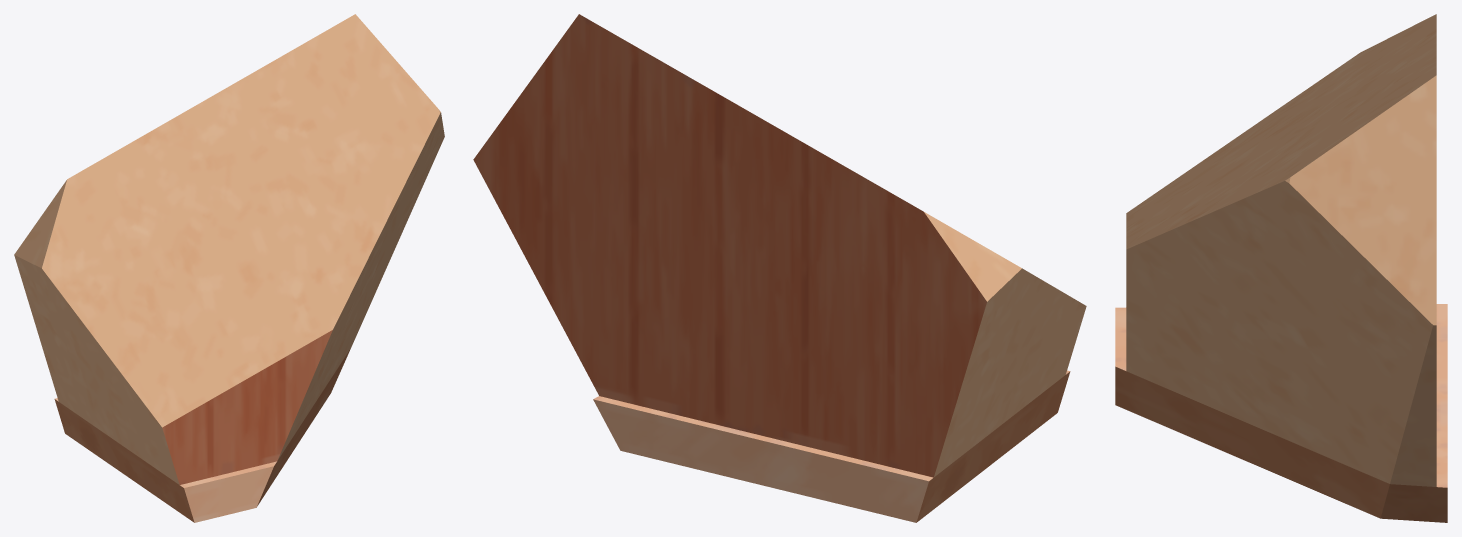
Rendered from counter_s02.fbx.
3 renders of one model, left to right at view 1: azimuth 30°, elevation 25°; view 2: azimuth 150°, elevation 25°; view 3: azimuth 270°, elevation 25°, orthographic. The views are drawn at different scales.
Parts seen in each view (by area): view 1: counter_s02; view 2: counter_s02; view 3: counter_s02.
Boxes of the visible parts, x1,y1,x2,y2 form: counter_s02: (14, 14, 444, 522); counter_s02: (473, 14, 1086, 522); counter_s02: (1115, 14, 1447, 522).
Bounding box in the file's own units: 3.01 × 2.36 × 1.5.
